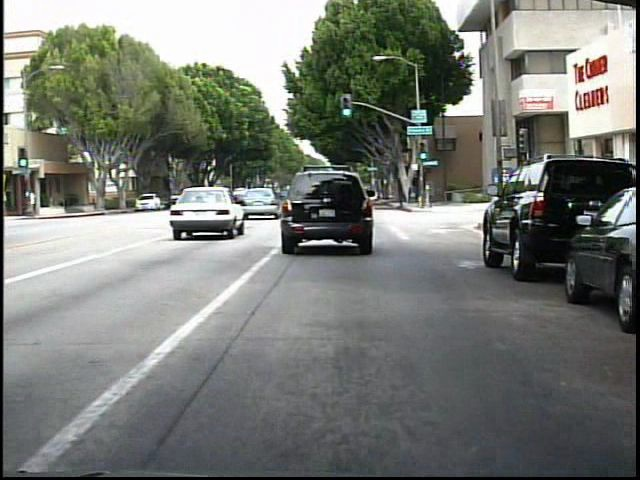person: (32, 187, 42, 218)
